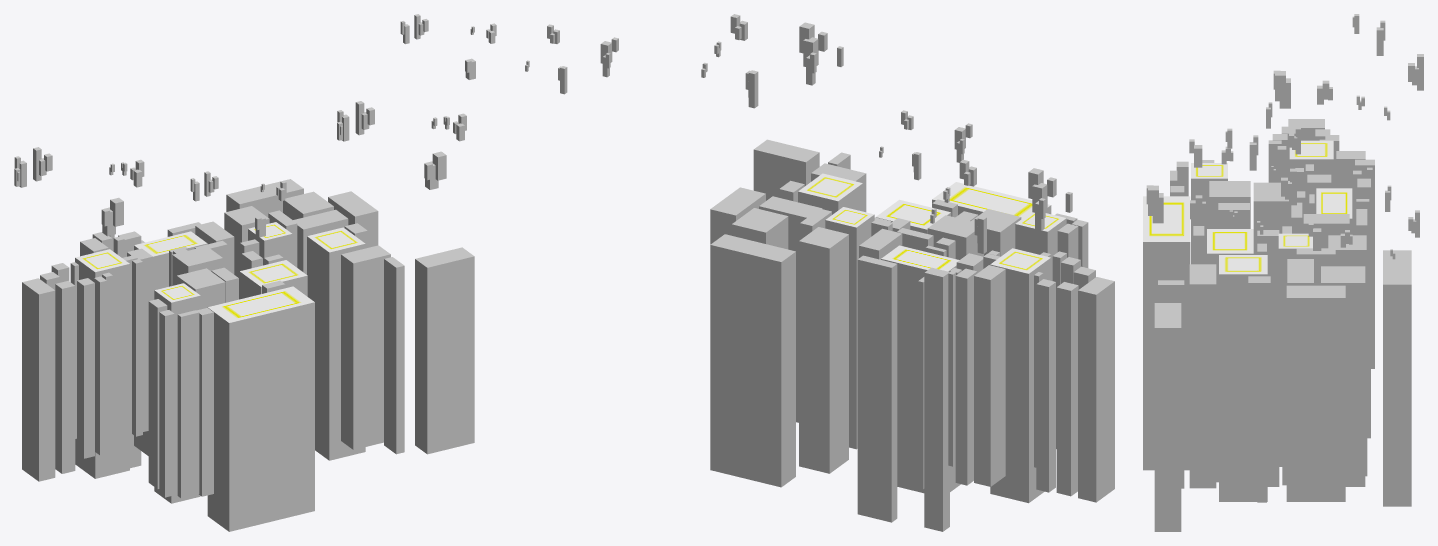
File: world_A_New.fbx
The picture shows the model from 3 angles, left to right: view 1: azimuth 30°, elevation 25°; view 2: azimuth 150°, elevation 25°; view 3: azimuth 270°, elevation 25°; orthographic projection. The views are drawn at different scales.
Visible parts, largest first — view 1: Cube_4, Cube_46, Cube_44, Cube_7, Platform, Cube_1, Cube_23, Cube_45, Cube_5_2, Cube_7_2, Cube_22, Cube_24 (+19 smaller); view 2: Cube_41, Cube_37, Cube_33, Cube_1, Platform, Cube_12, Cube_19, Cube_3, Cube_6_2, Cube_8, Cube_16, Cube_6 (+14 smaller); view 3: Cube_42, Cube_7, Cube_41, Cube_4, Cube_46, Cube_44, Cube_40, Cube_43, Cube_6, Cube_34, Cube_5, Cube_28 (+25 smaller).
Part boxes in pixels (box(x1,y1,x2,y2)): Cube_4: box(207, 286, 314, 531); Cube_46: box(415, 247, 474, 454); Cube_44: box(341, 245, 390, 449); Cube_7: box(307, 227, 365, 460); Platform: box(22, 278, 55, 481); Cube_1: box(75, 249, 129, 478); Cube_23: box(177, 310, 199, 498); Cube_45: box(384, 257, 404, 454); Cube_5_2: box(55, 280, 75, 473); Cube_7_2: box(77, 278, 94, 458); Cube_22: box(159, 310, 174, 497); Cube_24: box(196, 308, 213, 496); Cube_41: box(710, 234, 795, 487); Cube_37: box(799, 227, 848, 473); Cube_33: box(857, 255, 897, 522); Cube_1: box(990, 248, 1050, 503); Platform: box(1078, 277, 1114, 502); Cube_12: box(974, 265, 1005, 486); Cube_19: box(924, 267, 949, 531); Cube_3: box(881, 245, 960, 491); Cube_6_2: box(1056, 282, 1078, 496); Cube_8: box(1036, 279, 1055, 492); Cube_16: box(955, 268, 977, 485); Cube_6: box(825, 207, 874, 449); Cube_42: box(1286, 285, 1345, 501); Cube_7: box(1219, 255, 1267, 501); Cube_41: box(1383, 250, 1411, 506); Cube_4: box(1143, 196, 1190, 470); Cube_46: box(1154, 303, 1181, 531); Cube_44: box(1189, 264, 1216, 488); Cube_40: box(1321, 266, 1365, 486); Cube_43: box(1248, 276, 1270, 486); Cube_6: box(1278, 233, 1312, 466); Cube_34: box(1257, 230, 1279, 486); Cube_5: box(1207, 229, 1253, 482); Cube_28: box(1253, 182, 1288, 254).
Size of the model in its own units: 9842 by 7335 by 4528.
Materials: 2 (1 with a texture image).
